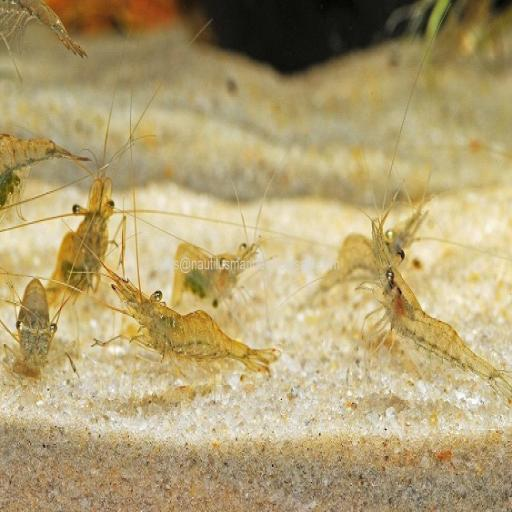Shrimp: (360, 243, 512, 408), (98, 258, 277, 397), (295, 190, 431, 306), (44, 175, 116, 310), (0, 132, 92, 231), (170, 234, 264, 311), (2, 275, 70, 378), (1, 0, 85, 64)
